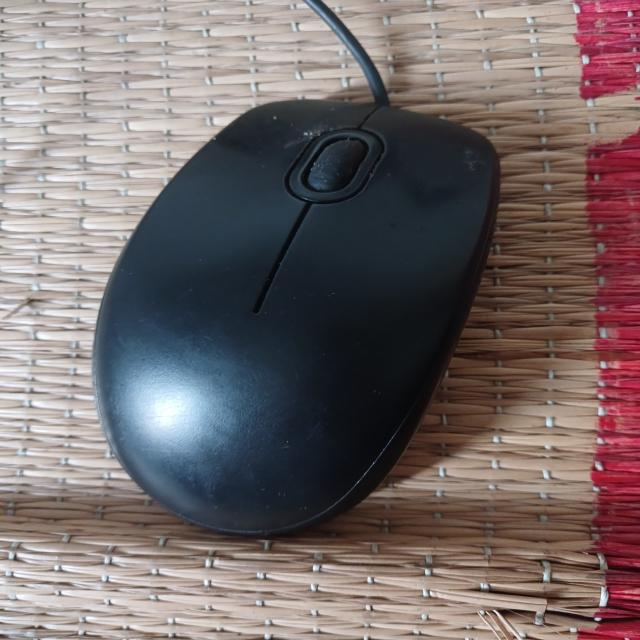mouse: (80, 97, 514, 549)
